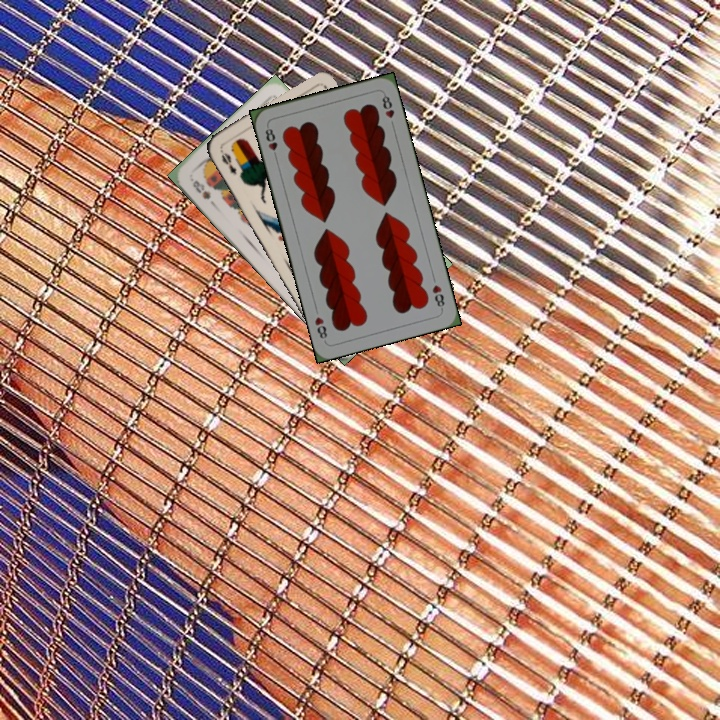EO: (217, 149, 239, 177)
H8: (261, 122, 280, 162), (428, 280, 447, 312)
S8: (186, 174, 213, 202)
